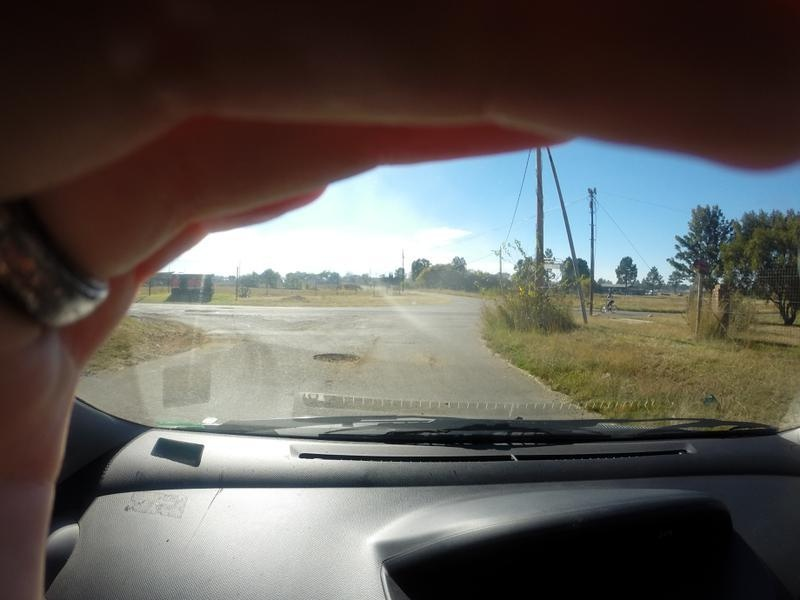pothole: (296, 347, 364, 373)
